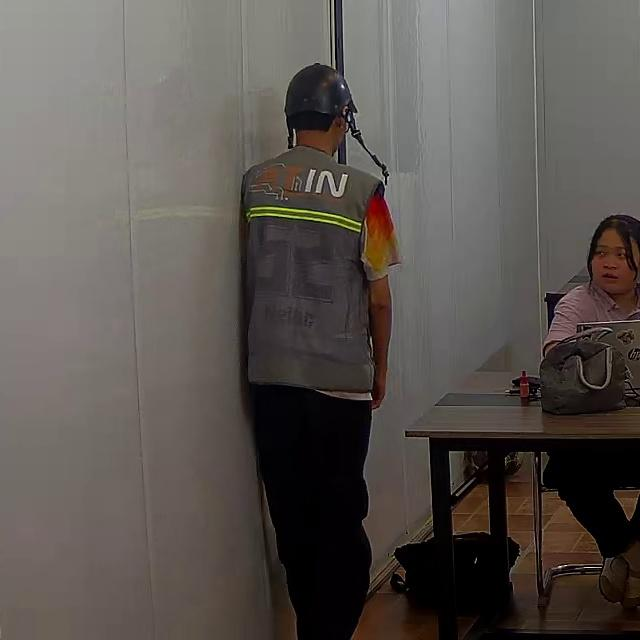helmet: (282, 61, 356, 123)
no_helmet: (588, 214, 640, 282)
none: (542, 282, 638, 358)
vest: (243, 161, 374, 386)
